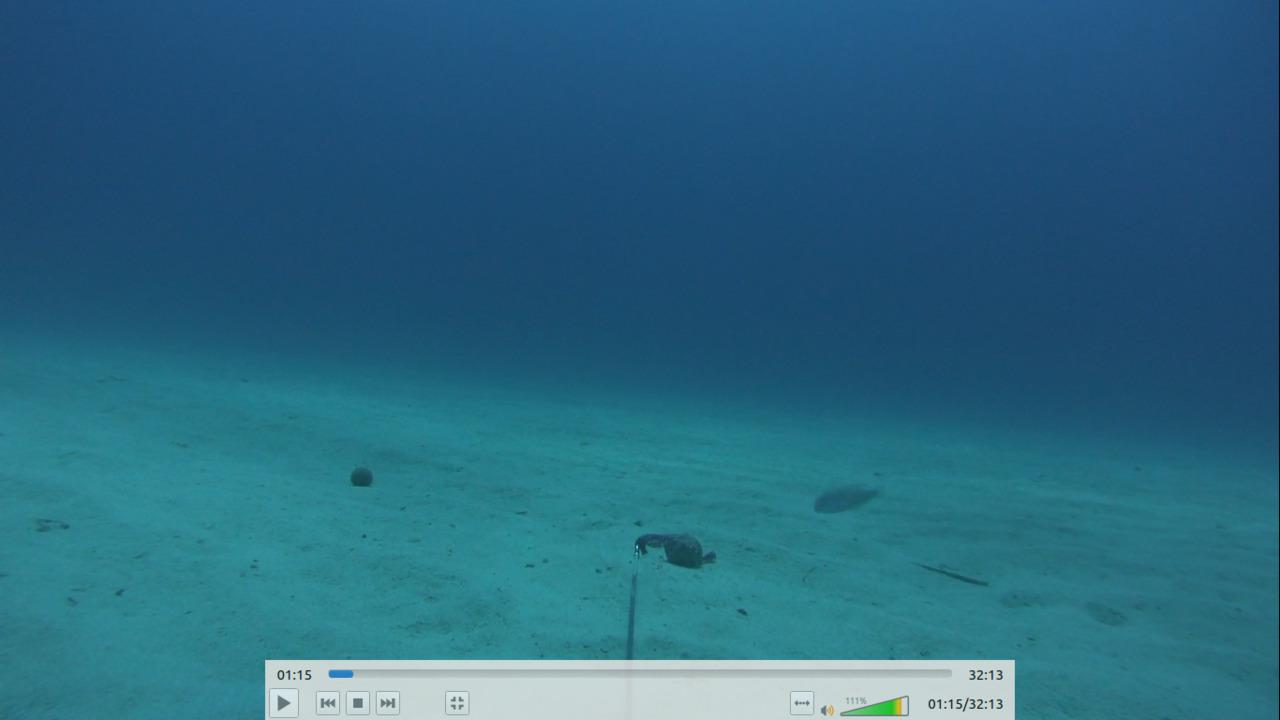raor: (798, 477, 891, 518)
